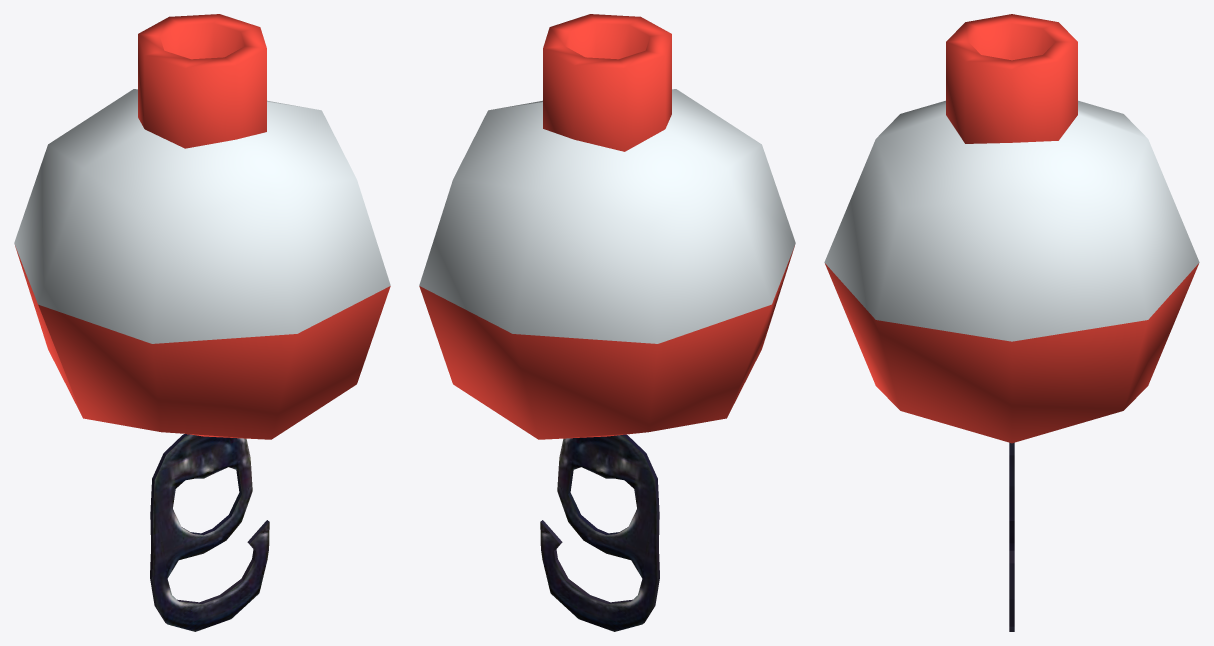
The model's file is starter_bobber.glb.
3 views of the same model, side by side, from view 1: azimuth 30°, elevation 25°; view 2: azimuth 150°, elevation 25°; view 3: azimuth 270°, elevation 25° (orthographic).
Visible parts, largest first — view 1: Bobber, Hook; view 2: Bobber, Hook; view 3: Bobber, Hook.
Boxes of the visible parts, x1,y1,x2,y2 form: Bobber: (14,14,390,439); Hook: (150,434,269,631); Bobber: (419,14,795,439); Hook: (540,434,659,631); Bobber: (824,14,1199,443); Hook: (1009,442,1014,631).
Bounding box in the file's own units: 1.34 × 2.29 × 1.34.
Materials: 3 (1 with a texture image).
